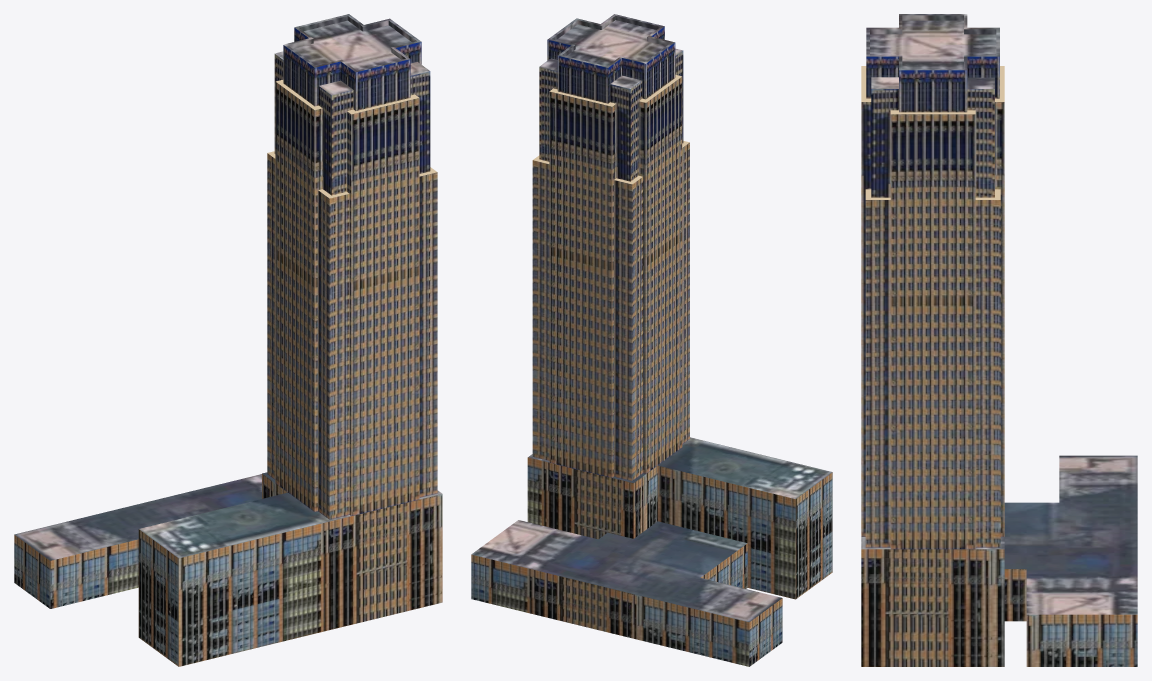
Rendered from temeisi_building_1a923979.glb.
The picture shows the model from 3 angles, left to right: view 1: azimuth 30°, elevation 25°; view 2: azimuth 150°, elevation 25°; view 3: azimuth 270°, elevation 25°; orthographic projection. The views are drawn at different scales.
Visible parts, largest first — view 1: temeisi_building_1a923979; view 2: temeisi_building_1a923979; view 3: temeisi_building_1a923979.
Part boxes in pixels (x1,y1,x2,y2): temeisi_building_1a923979: (14, 14, 442, 666); temeisi_building_1a923979: (471, 14, 832, 666); temeisi_building_1a923979: (861, 14, 1137, 666).
Bounding box in the file's own units: 91.44 × 159 × 67.03.
1 material, 1 textured.
